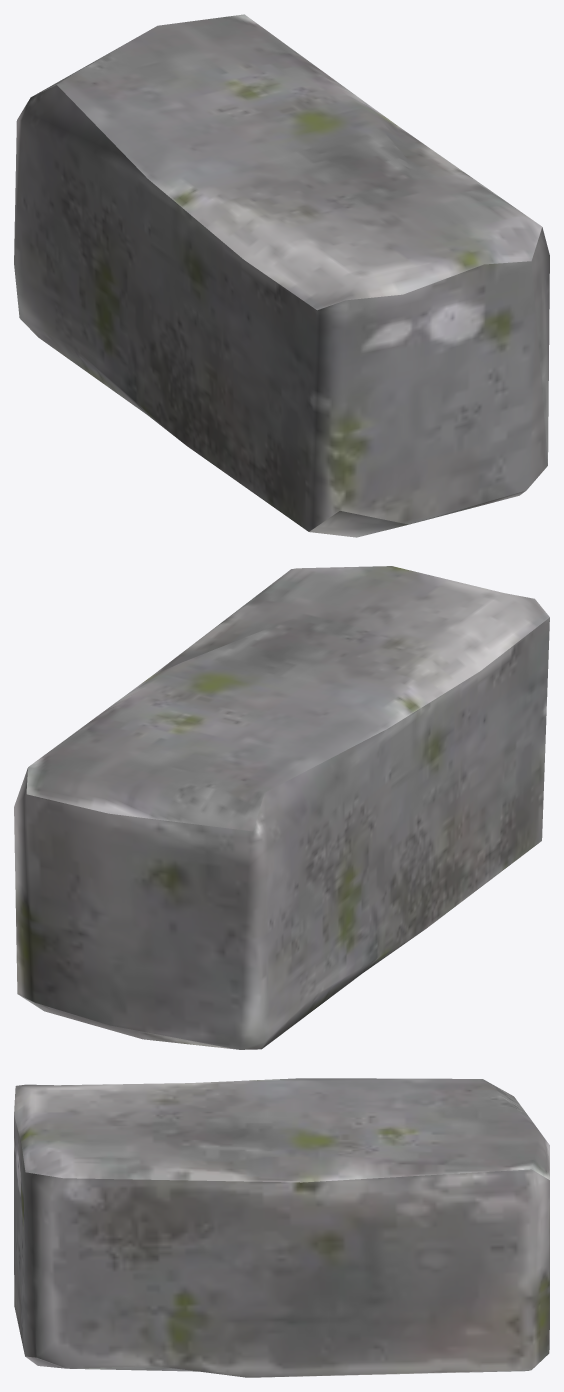
3 views of the same model, one above another, from view 1: azimuth 30°, elevation 25°; view 2: azimuth 150°, elevation 25°; view 3: azimuth 270°, elevation 25° (orthographic). The views are drawn at different scales.
Parts seen in each view (by area): view 1: SM_River_Bridge_Unique_Bricks_05_LOD0; view 2: SM_River_Bridge_Unique_Bricks_05_LOD0; view 3: SM_River_Bridge_Unique_Bricks_05_LOD0.
Part boxes in pixels (x1,y1,x2,y2): SM_River_Bridge_Unique_Bricks_05_LOD0: (14, 14, 549, 537); SM_River_Bridge_Unique_Bricks_05_LOD0: (14, 566, 549, 1049); SM_River_Bridge_Unique_Bricks_05_LOD0: (14, 1078, 549, 1377).
Bounding box in the file's own units: 0.2759 × 0.2751 × 0.6306.
Materials: 1 (1 with a texture image).
